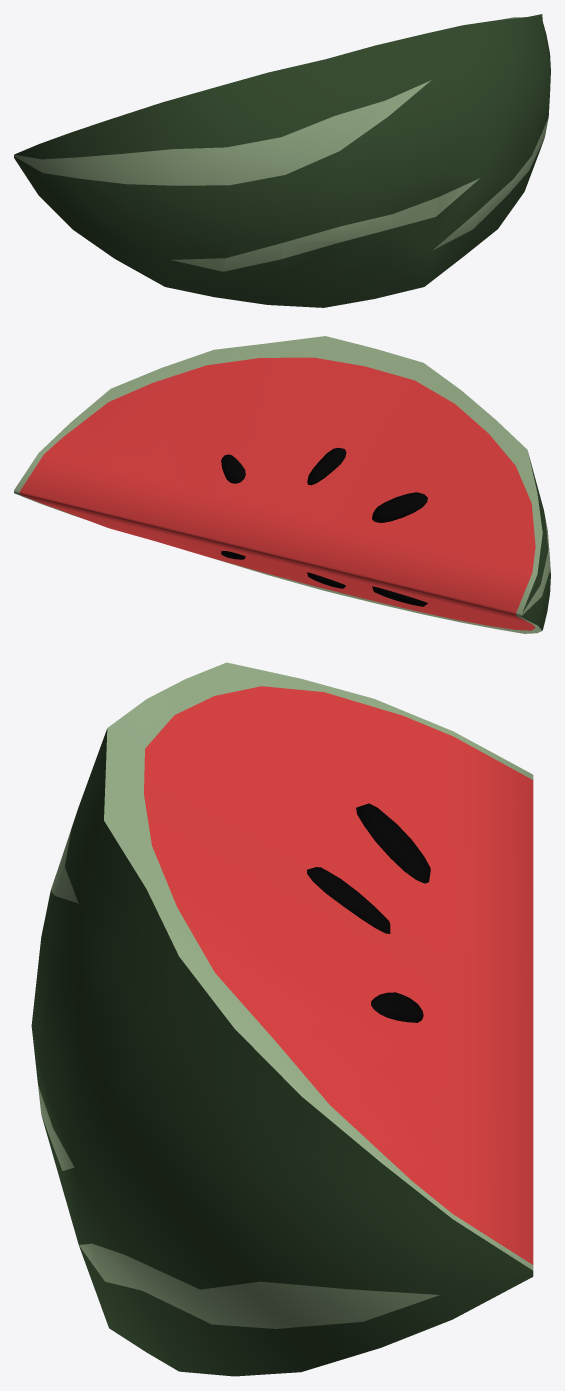
The model's file is WatermelonFixed.fbx.
The picture shows the model from 3 angles, top to bottom: view 1: azimuth 30°, elevation 25°; view 2: azimuth 150°, elevation 25°; view 3: azimuth 270°, elevation 25°; orthographic projection. The views are drawn at different scales.
Visible parts, largest first — view 1: Watermelon; view 2: Watermelon; view 3: Watermelon.
Boxes of the visible parts, x1,y1,x2,y2 form: Watermelon: [14, 14, 550, 307]; Watermelon: [14, 336, 550, 633]; Watermelon: [31, 662, 533, 1376].
Bounding box in the file's own units: 69.07 × 32.99 × 29.54.
